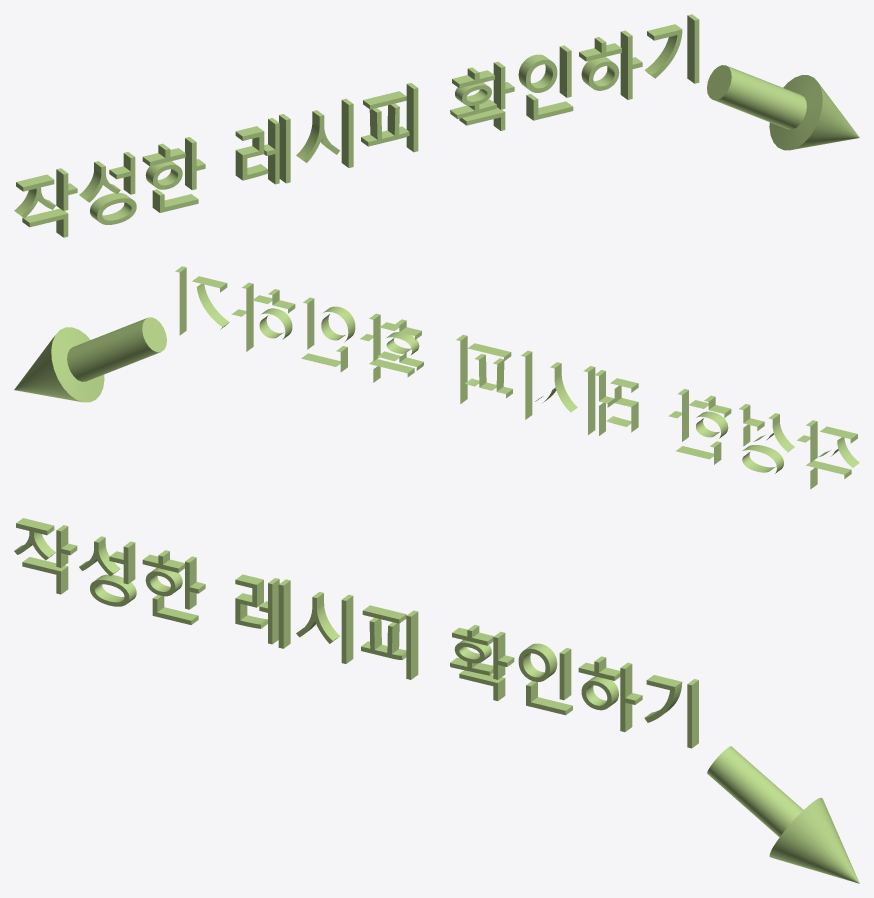
File: writtenmovetext.gltf
The picture shows the model from 3 angles, top to bottom: view 1: azimuth 30°, elevation 25°; view 2: azimuth 150°, elevation 25°; view 3: azimuth 330°, elevation 25°; orthographic projection.
Visible parts, largest first — view 1: Cone001; view 2: Cone001; view 3: Cone001.
Part boxes in pixels (left/top/right/bottom): Cone001: left=14, top=14, right=859, bottom=237; Cone001: left=14, top=266, right=859, bottom=489; Cone001: left=14, top=518, right=859, bottom=883.
Size of the model in its own units: 5.02 by 0.9208 by 0.4088.
